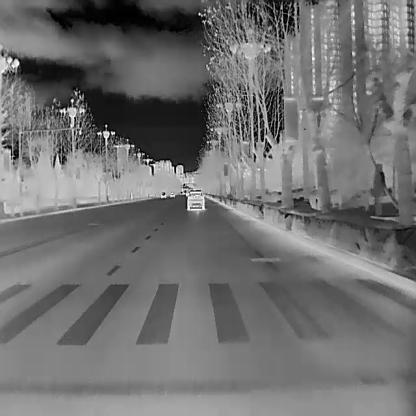car: (185, 190, 204, 210), (160, 191, 166, 198), (169, 191, 174, 198)
